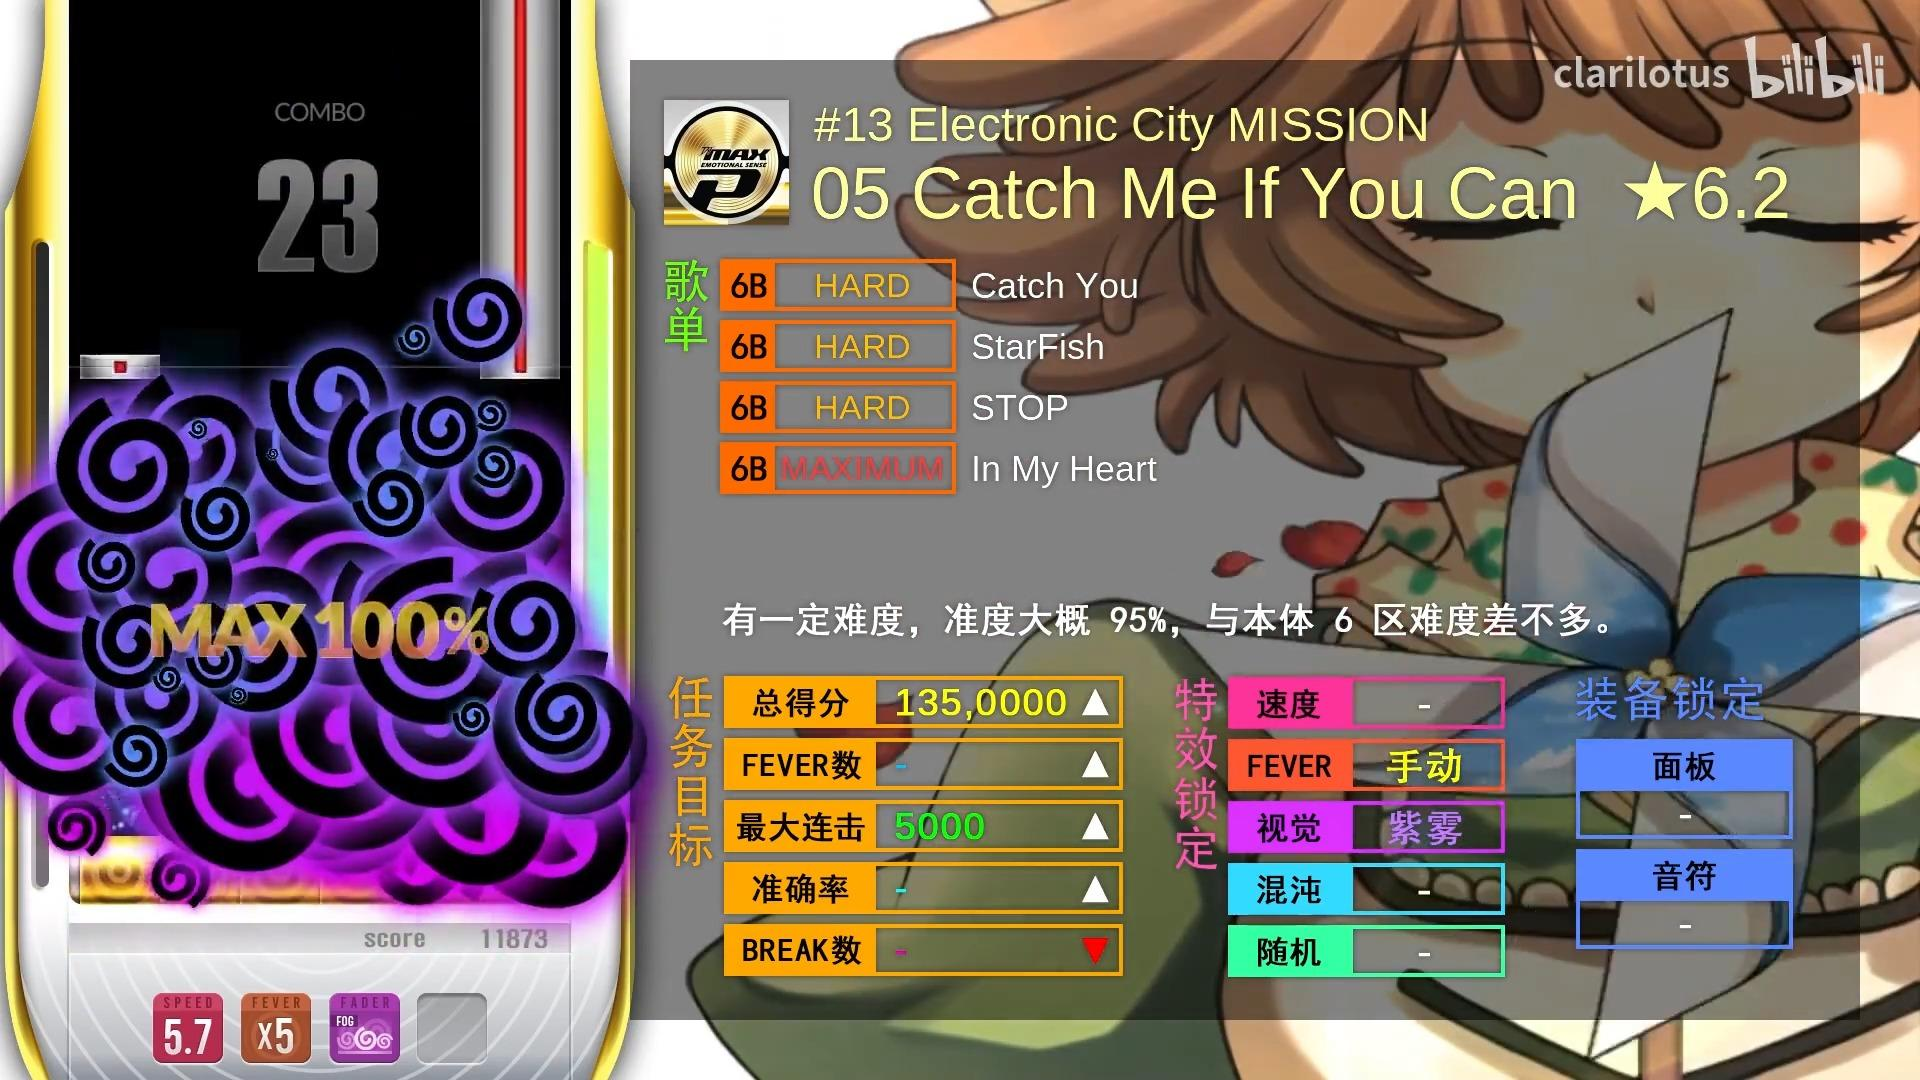hold-start: (480, 353, 560, 378)
note: (80, 355, 160, 378)
